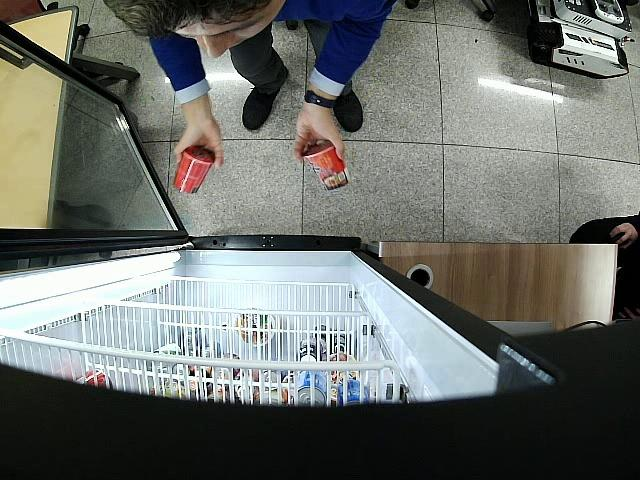00_hand: (174, 114, 224, 170), (293, 112, 345, 164)
02_shinRamen_S: (303, 141, 352, 191), (173, 145, 214, 196)
